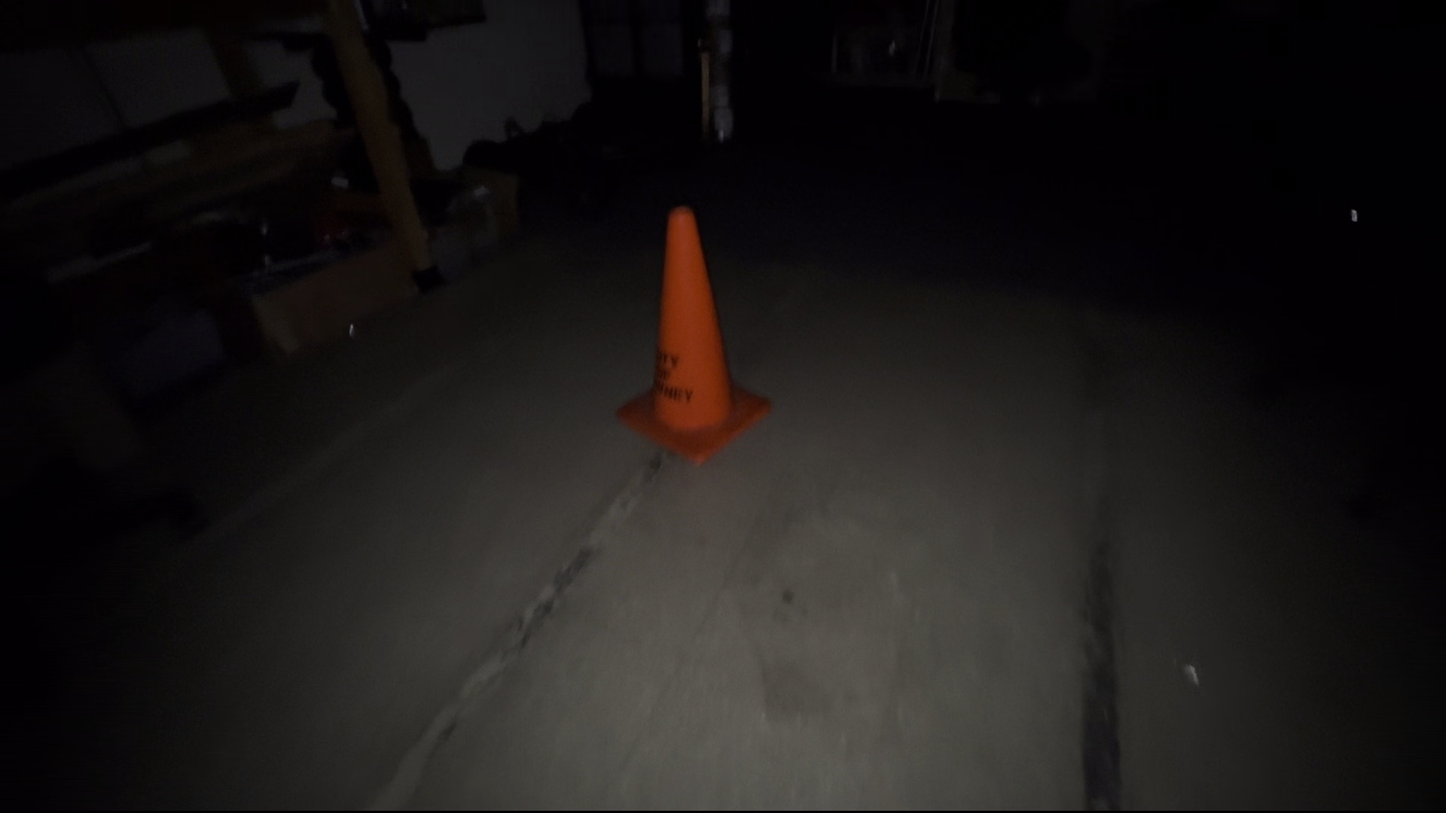traffic_cone: (614, 205, 773, 465)
